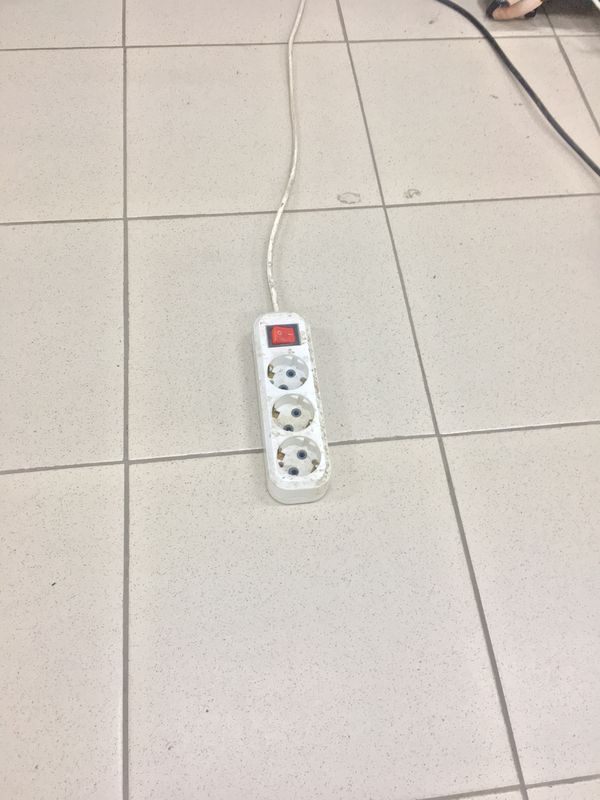socket: (244, 306, 346, 506)
